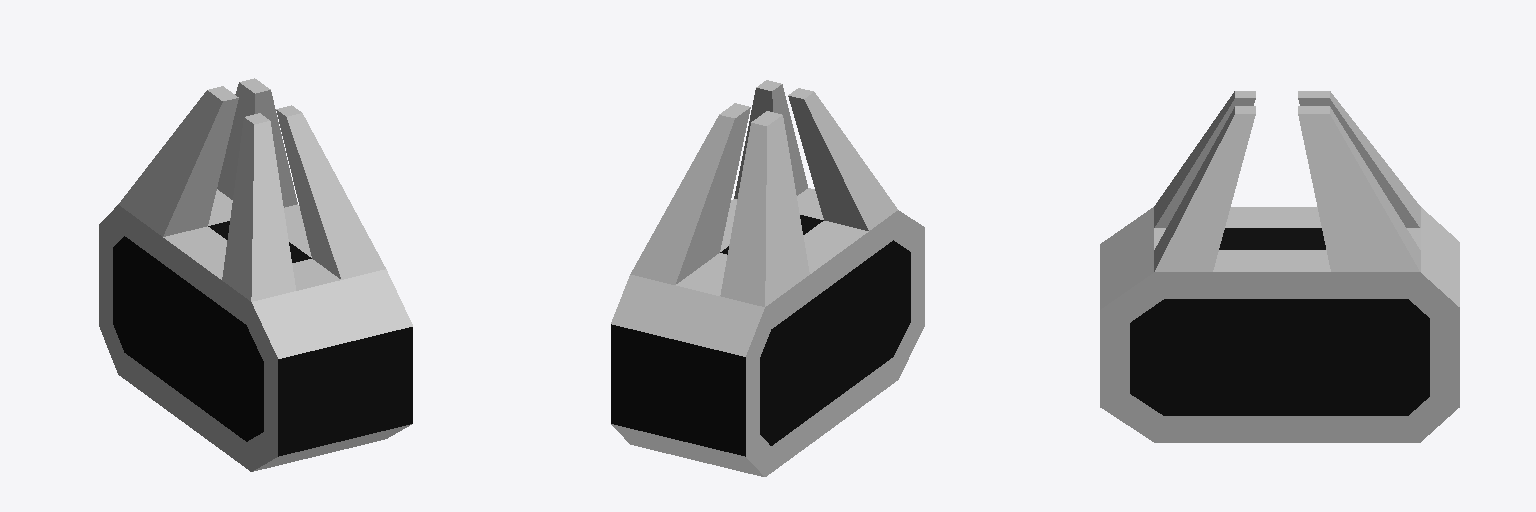
File: counterweight.obj
3 renders of one model, left to right at view 1: azimuth 30°, elevation 25°; view 2: azimuth 150°, elevation 25°; view 3: azimuth 270°, elevation 25°, orthographic.
Parts seen in each view (by area): view 1: Cube.001_Cube.002; view 2: Cube.001_Cube.002; view 3: Cube.001_Cube.002.
Part boxes in pixels (left/top/right/bottom): Cube.001_Cube.002: left=99, top=78, right=412, bottom=471; Cube.001_Cube.002: left=611, top=80, right=924, bottom=476; Cube.001_Cube.002: left=1100, top=91, right=1459, bottom=442.
Size of the model in its own units: 1.09 by 2.38 by 2.52.